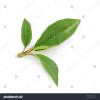Peach leaf: (32, 18, 83, 51), (31, 53, 59, 87), (21, 15, 33, 48)
